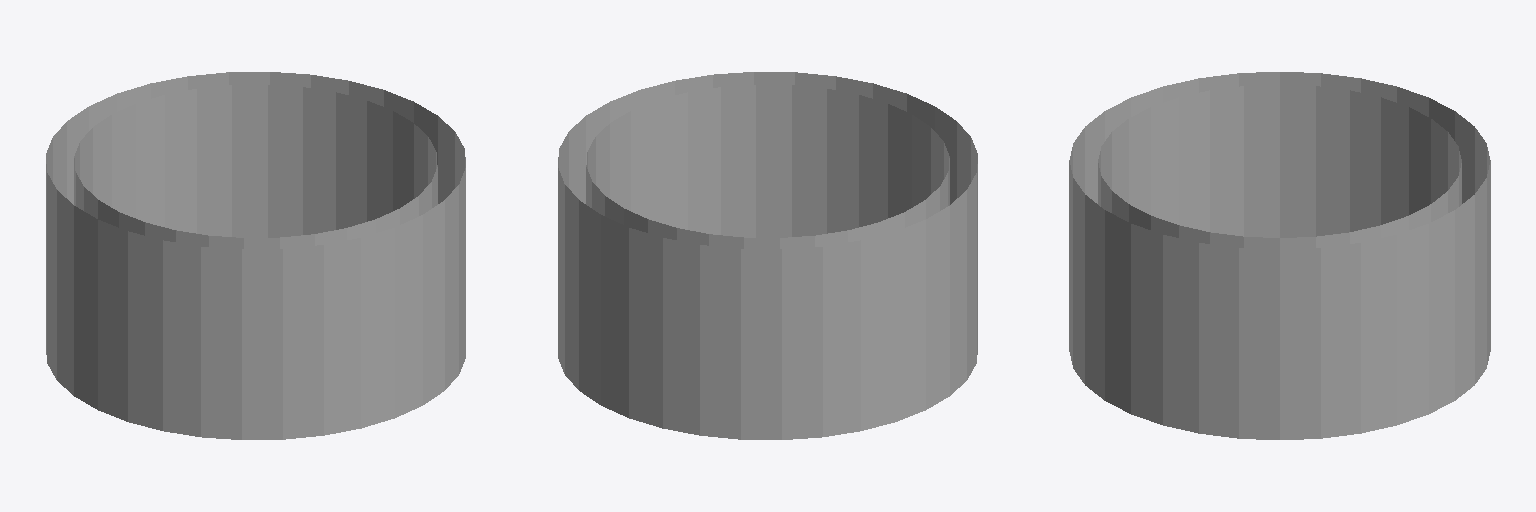
File: warp_pipe_single_castle.obj
3 views of the same model, side by side, from view 1: azimuth 30°, elevation 25°; view 2: azimuth 150°, elevation 25°; view 3: azimuth 270°, elevation 25° (orthographic).
Parts seen in each view (by area): view 1: Cylinder.001; view 2: Cylinder.001; view 3: Cylinder.001.
Part boxes in pixels (bbox=[...]): Cylinder.001: bbox=[46, 72, 465, 439]; Cylinder.001: bbox=[558, 72, 977, 439]; Cylinder.001: bbox=[1069, 72, 1490, 439].
Size of the model in its own units: 4 by 2 by 4.